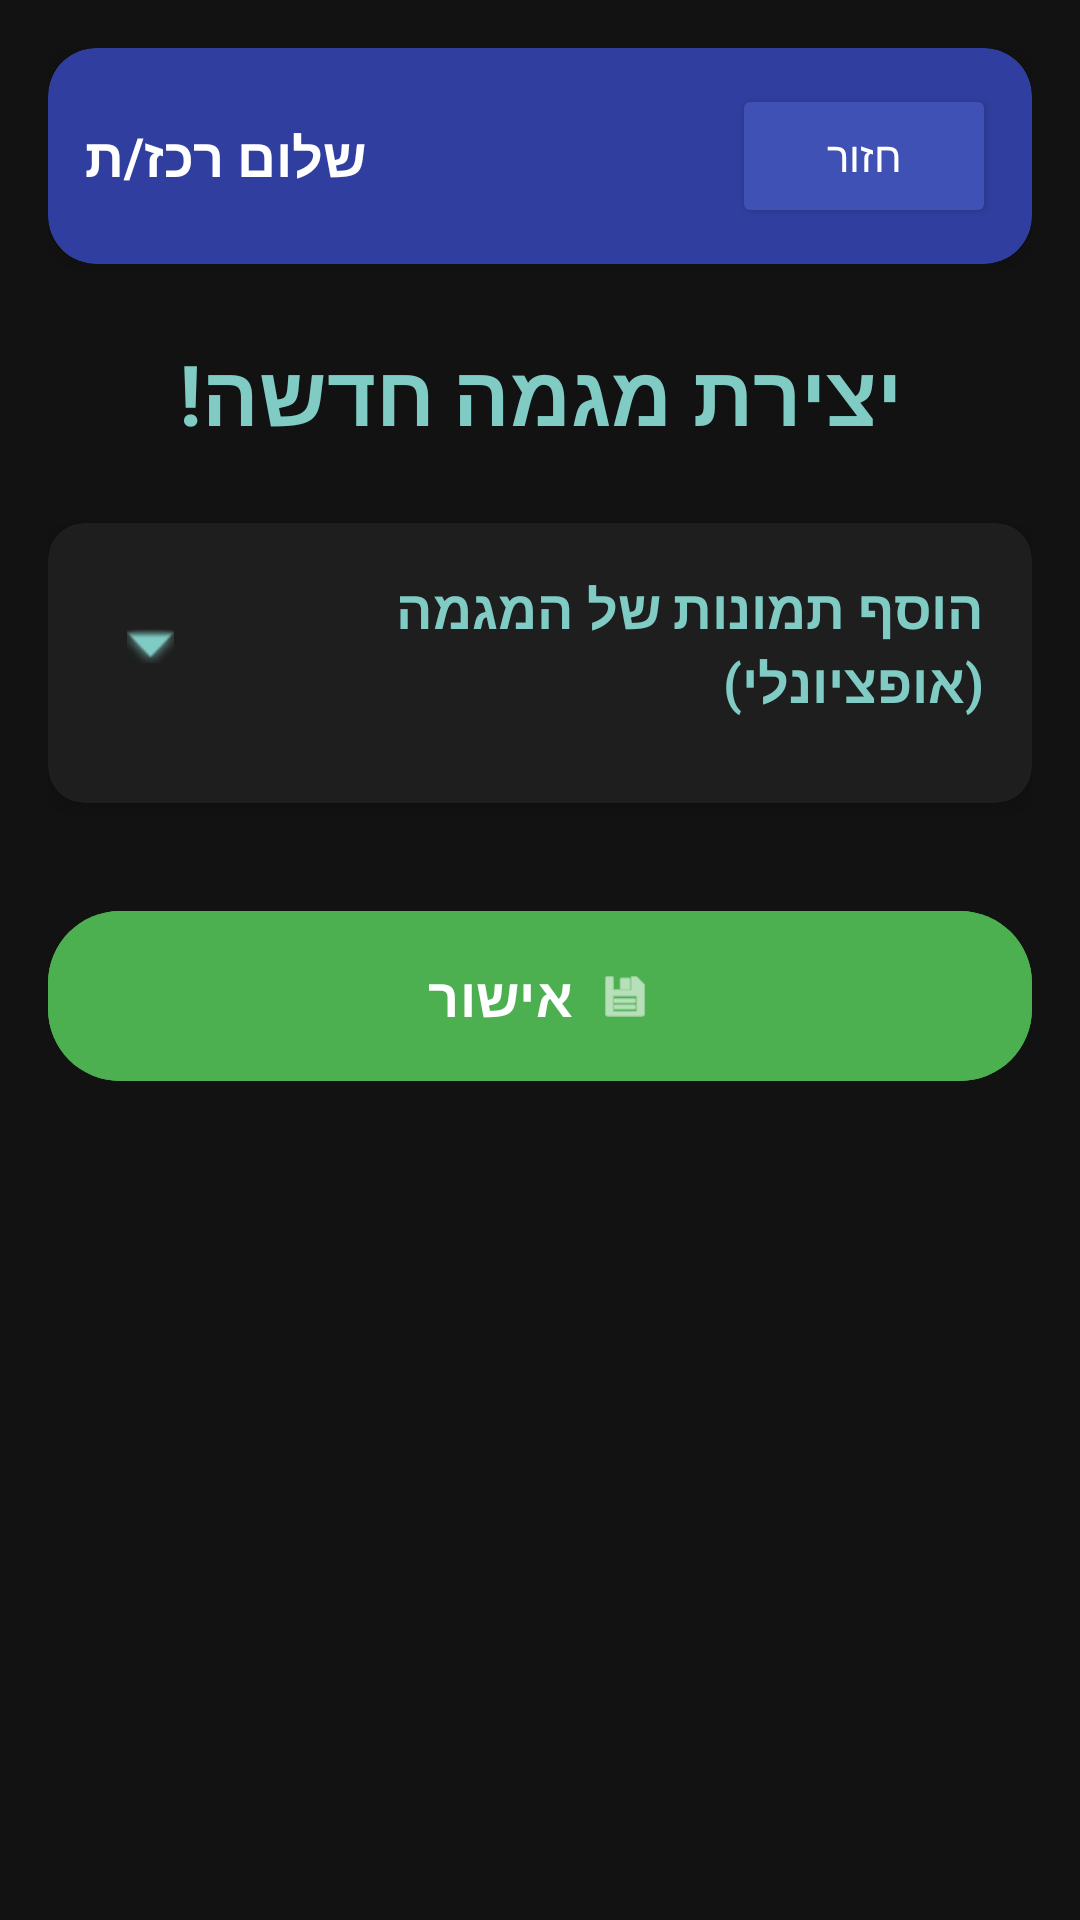

Point at icon controls on the screen. Image size 1080×1920, points as (x=x, y=y).
הצג/הסתר הוספת תמונות: (x=150, y=645)
